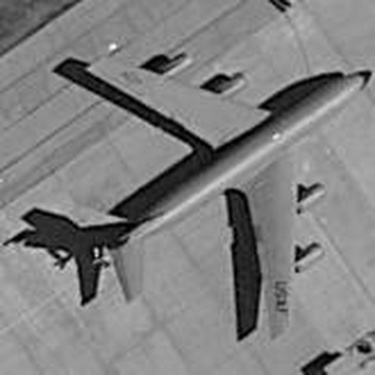airplane: (16, 30, 370, 347)
